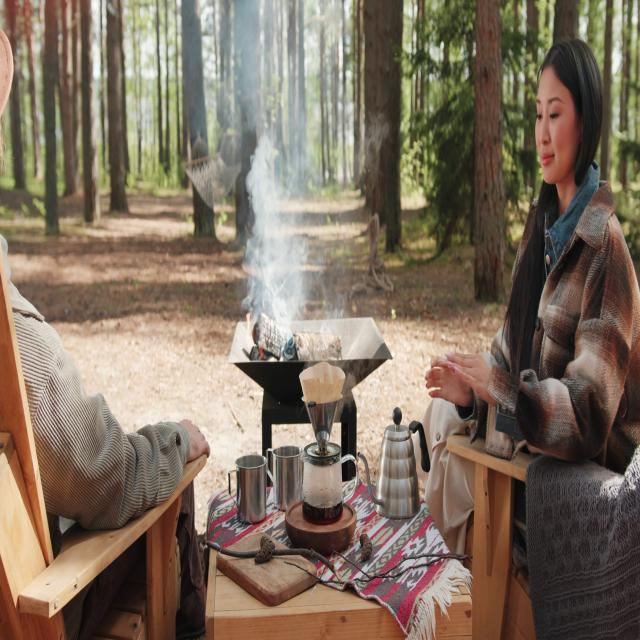Smoke: (166, 2, 369, 345)
